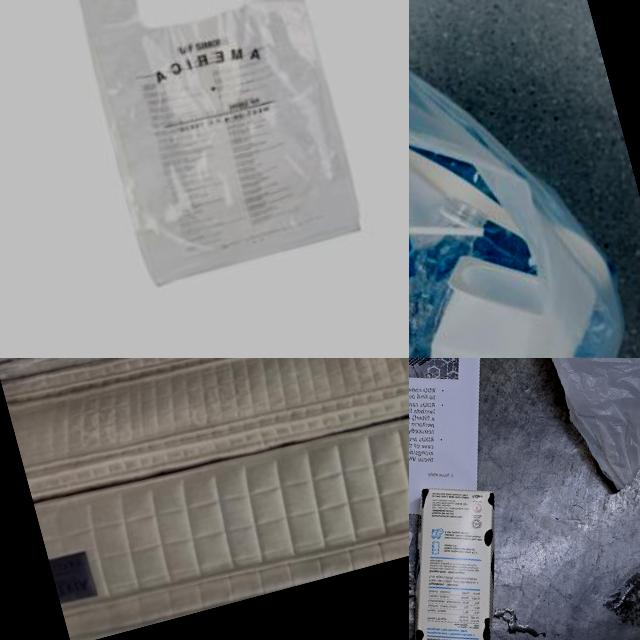caixinha: (409, 471, 541, 640)
papel: (0, 358, 409, 640), (409, 358, 640, 562), (409, 523, 435, 611)
sacola plástica: (36, 0, 405, 312), (409, 0, 640, 358), (508, 358, 640, 502)
